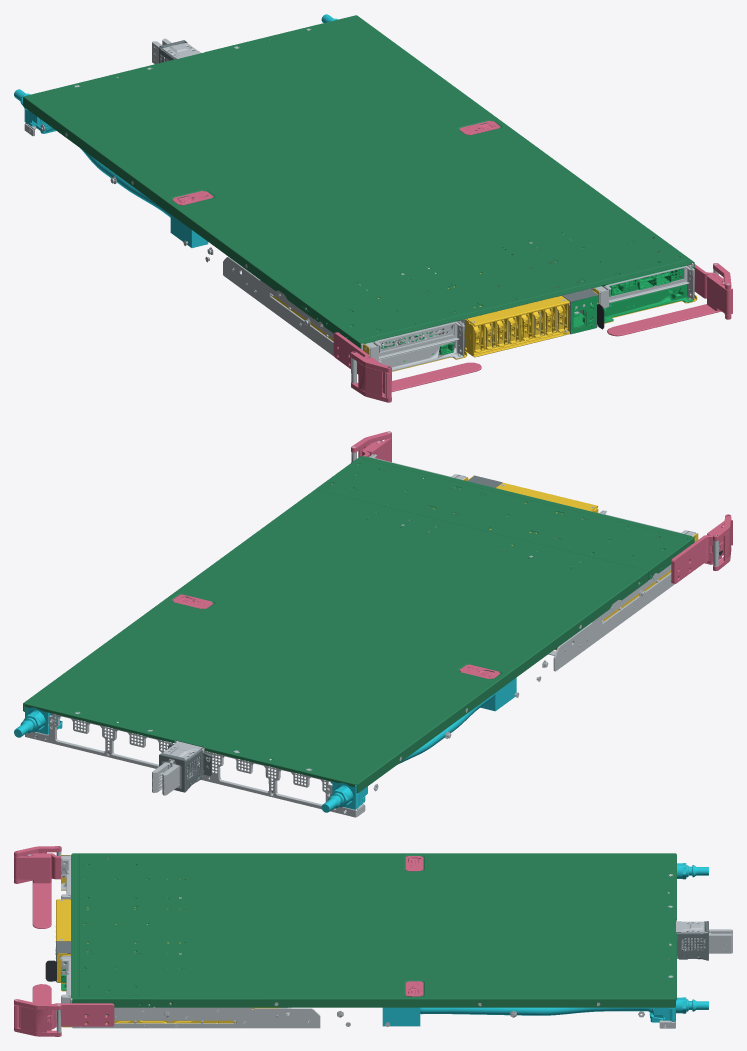
The model's file is carlo-next-l10-mobile.glb.
3 renders of one model, top to bottom at view 1: azimuth 30°, elevation 25°; view 2: azimuth 150°, elevation 25°; view 3: azimuth 270°, elevation 25°, orthographic. The views are drawn at different scales.
Parts seen in each view (by area): view 1: GB3_MGX102_TOP_COVER_766_1_V08, GB3_GPU_CAGE_COVER_1_1_V08, GB3_SM_GPU_SIDE_BKT_R_V08, CARLO_INNER-MANIFOLD_ASM, MGX101_PCIE_OSFP_NIC_WIN_AVL_6_, GB3_HANDLE_LEVER_L_REV_B0_1_V08, GB3_MGX101_PCIE_IO_WIN_SG_V08, GB3_MGX101_PCIE_IO_WIN_SG_V001, GB3_PCIE_OSFP_NIC_WIN1_AVL_V08, GB3_HANDLE_LEVER_L_REV_B0_1_V001, GB3_YPE_C-E1S-CAGE-T-CVR_1_V08, GB300_BF3_SFG005171_SS_V08 (+5 smaller); view 2: GB3_MGX102_TOP_COVER_766_1_V08, GB3_GPU_CAGE_COVER_1_1_V08, GB3_1_REAR-BRACKET-ONE_V08, GB3_SM_GPU_SIDE_BKT_R_V08, CARLO_INNER-MANIFOLD_ASM, GB3_HANDLE_MNT_L_REVD0_V08, GB3_BUSBAR-BRKT-BASE_1_V08, GB3_BK220_NARROW_1U_41724_1_V08, GB3_YPE_C-E1S-CAGE-T-CVR_1_V08, CARLO_INNER-MANIFOLD_ASM001; view 3: GB3_MGX102_TOP_COVER_766_1_V08, GB3_GPU_CAGE_COVER_1_1_V08, GB3_MGX101_GPU1_SIDE_BKT-L_V08, CARLO_INNER-MANIFOLD_ASM001, GB3_HANDLE_MNT_R_REV_D0_2_V08, GB3_LEVER_CON_L_REVB0_V08, GB3_HANDLE_LEVER_L_REV_B0_1_V001, GB3_BUSBAR-BRKT-BASE_1_V08, GB3_BK220_NARROW_1U_41724_1_V08, GB3_MGX_COVER_LINK_HANDLE_V08, GB3_YPE_C-E1S-CAGE-T-CVR_1_V08, GB3_MGX101_GPU_BKT-CAGE_V08 (+4 smaller).
Part boxes in pixels (box(x1,y1,x2,y2)): GB3_MGX102_TOP_COVER_766_1_V08: box(23, 15, 647, 318); GB3_GPU_CAGE_COVER_1_1_V08: box(314, 228, 694, 348); GB3_SM_GPU_SIDE_BKT_R_V08: box(223, 256, 362, 356); CARLO_INNER-MANIFOLD_ASM: box(14, 89, 208, 247); MGX101_PCIE_OSFP_NIC_WIN_AVL_6_: box(603, 274, 693, 322); GB3_HANDLE_LEVER_L_REV_B0_1_V08: box(607, 304, 721, 336); GB3_MGX101_PCIE_IO_WIN_SG_V08: box(600, 265, 693, 307); GB3_MGX101_PCIE_IO_WIN_SG_V001: box(370, 322, 463, 361); GB3_PCIE_OSFP_NIC_WIN1_AVL_V08: box(379, 331, 463, 371); GB3_HANDLE_LEVER_L_REV_B0_1_V001: box(382, 362, 481, 394); GB3_YPE_C-E1S-CAGE-T-CVR_1_V08: box(466, 296, 569, 326); GB300_BF3_SFG005171_SS_V08: box(602, 262, 694, 296); GB3_MGX102_TOP_COVER_766_1_V08: box(23, 489, 648, 793); GB3_GPU_CAGE_COVER_1_1_V08: box(315, 456, 694, 579); GB3_1_REAR-BRACKET-ONE_V08: box(25, 713, 365, 817); GB3_SM_GPU_SIDE_BKT_R_V08: box(553, 564, 674, 671); CARLO_INNER-MANIFOLD_ASM: box(321, 677, 516, 812); GB3_HANDLE_MNT_L_REVD0_V08: box(671, 525, 724, 583); GB3_BUSBAR-BRKT-BASE_1_V08: box(159, 745, 211, 792); GB3_BK220_NARROW_1U_41724_1_V08: box(152, 749, 216, 795); GB3_YPE_C-E1S-CAGE-T-CVR_1_V08: box(496, 482, 598, 511); CARLO_INNER-MANIFOLD_ASM001: box(14, 707, 60, 737); GB3_MGX102_TOP_COVER_766_1_V08: box(154, 853, 676, 1007); GB3_GPU_CAGE_COVER_1_1_V08: box(71, 853, 154, 1007); GB3_MGX101_GPU1_SIDE_BKT-L_V08: box(72, 1003, 320, 1028); CARLO_INNER-MANIFOLD_ASM001: box(382, 997, 708, 1026); GB3_HANDLE_MNT_R_REV_D0_2_V08: box(47, 1003, 114, 1029); GB3_LEVER_CON_L_REVB0_V08: box(14, 855, 51, 883); GB3_HANDLE_LEVER_L_REV_B0_1_V001: box(32, 883, 51, 928); GB3_BUSBAR-BRKT-BASE_1_V08: box(677, 921, 708, 960); GB3_BK220_NARROW_1U_41724_1_V08: box(677, 929, 732, 953); GB3_MGX_COVER_LINK_HANDLE_V08: box(20, 1006, 46, 1032); GB3_YPE_C-E1S-CAGE-T-CVR_1_V08: box(56, 899, 70, 941); GB3_MGX101_GPU_BKT-CAGE_V08: box(61, 955, 279, 1027).
Size of the model in its own units: 0.4815 by 0.0437 by 0.9121.
